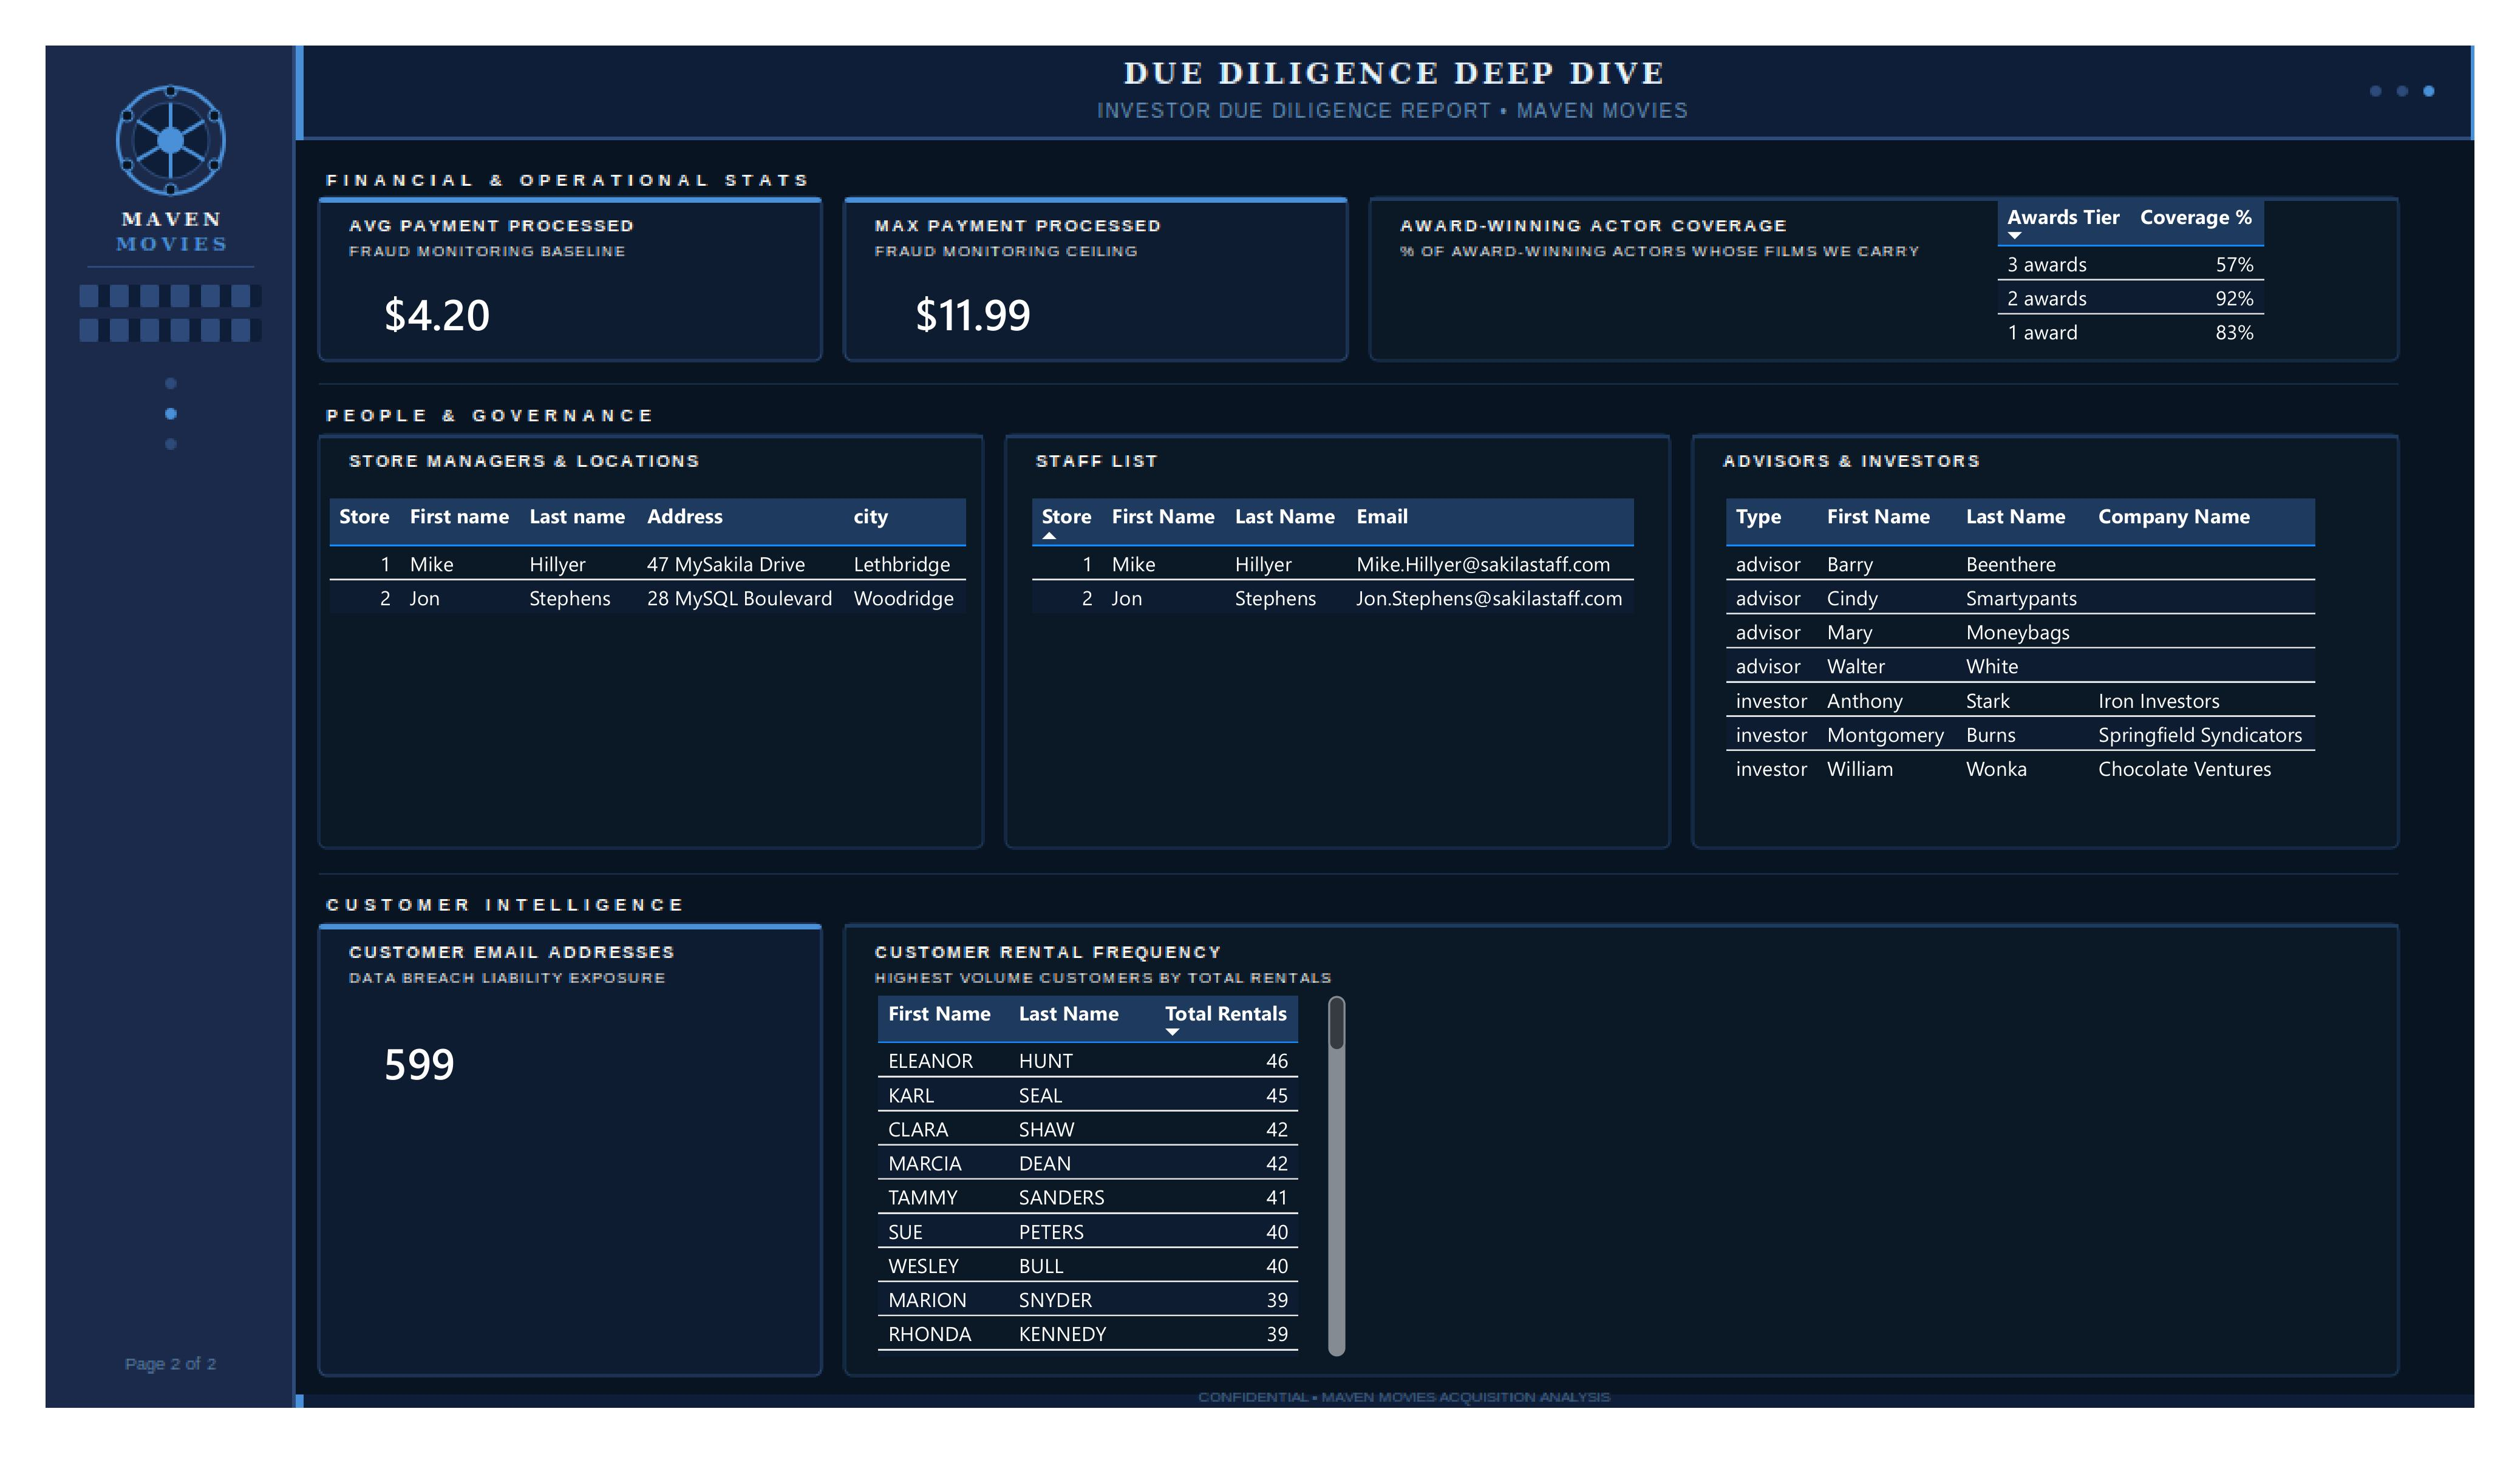

The dashboard page shown, as its layout file describes it:
{"tool":"powerbi","page":{"name":"Due Diligence Deep Dive","canvas":[1280,720],"ordinal":1},"visuals":[{"type":"cardVisual","fields":{"Data":["Sum(payment_stats.avg_payment)"]},"box":[153,113,107,51],"z":0},{"type":"cardVisual","fields":{"Data":["Sum(payment_stats.max_payment)"]},"box":[433,113,113,51],"z":1000},{"type":"tableEx","fields":{"Values":["award_actor_coverage.number_of_awards","Sum(award_actor_coverage.pct_carried)"]},"box":[1023,76,168,88],"z":2000},{"type":"tableEx","fields":{"Values":["storemanager_fulladdress.store_id","storemanager_fulladdress.manager_first_name","storemanager_fulladdress.manager_last_name","storemanager_fulladdress.address","storemanager_fulladdress.city"]},"box":[144,234,353,73],"z":2001},{"type":"tableEx","fields":{"Values":["staff_list.store_id","staff_list.first_name","staff_list.last_name","staff_list.email"]},"box":[514,234,331,73],"z":2002},{"type":"tableEx","fields":{"Values":["advisors_investors.type","advisors_investors.first_name","advisors_investors.last_name","advisors_investors.company_name"]},"box":[880,234,334,166],"z":2003},{"type":"cardVisual","fields":{"Data":["Sum(customer_email_count.total_emails)"]},"box":[153,508,107,51],"z":2004},{"type":"tableEx","fields":{"Values":["customer_rental_counts.first_name","customer_rental_counts.last_name","Sum(customer_rental_counts.num_of_rentals)"]},"box":[433,496,257,200],"z":2005}]}

Visuals, with their boxes on the page's 1280x720 design canvas (x1, y1, x2, y2). These are canvas units, not pixel positions in the 2520x1457 screenshot, which may show the page scaled, cropped or inside an application window:
cardVisual - Sum(payment_stats.avg_payment): bbox=(153, 113, 260, 164)
cardVisual - Sum(payment_stats.max_payment): bbox=(433, 113, 546, 164)
tableEx - award_actor_coverage.number_of_awards x Sum(award_actor_coverage.pct_carried): bbox=(1023, 76, 1191, 164)
tableEx - storemanager_fulladdress.store_id x storemanager_fulladdress.manager_first_name: bbox=(144, 234, 497, 307)
tableEx - staff_list.store_id x staff_list.first_name: bbox=(514, 234, 845, 307)
tableEx - advisors_investors.type x advisors_investors.first_name: bbox=(880, 234, 1214, 400)
cardVisual - Sum(customer_email_count.total_emails): bbox=(153, 508, 260, 559)
tableEx - customer_rental_counts.first_name x customer_rental_counts.last_name: bbox=(433, 496, 690, 696)
